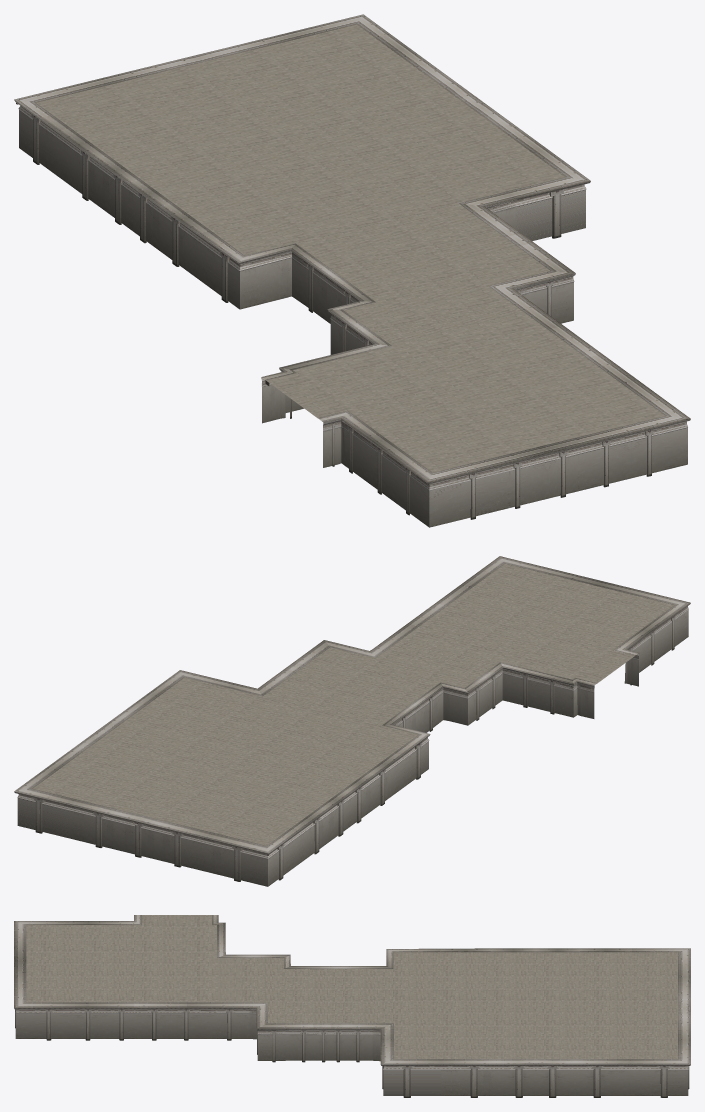
The model's file is mod_zlc_jianzhu092_xy.FBX.
3 views of the same model, one above another, from view 1: azimuth 30°, elevation 25°; view 2: azimuth 150°, elevation 25°; view 3: azimuth 270°, elevation 25° (orthographic). The views are drawn at different scales.
Parts seen in each view (by area): view 1: mod_zlc_jianzhu092_xy; view 2: mod_zlc_jianzhu092_xy; view 3: mod_zlc_jianzhu092_xy.
Part boxes in pixels (x1=…): mod_zlc_jianzhu092_xy: x1=14, y1=14, x2=690, y2=527; mod_zlc_jianzhu092_xy: x1=14, y1=556, x2=690, y2=886; mod_zlc_jianzhu092_xy: x1=14, y1=915, x2=690, y2=1097.
Bounding box in the file's own units: 117 × 12.56 × 223.
Materials: 2 (2 with a texture image).
